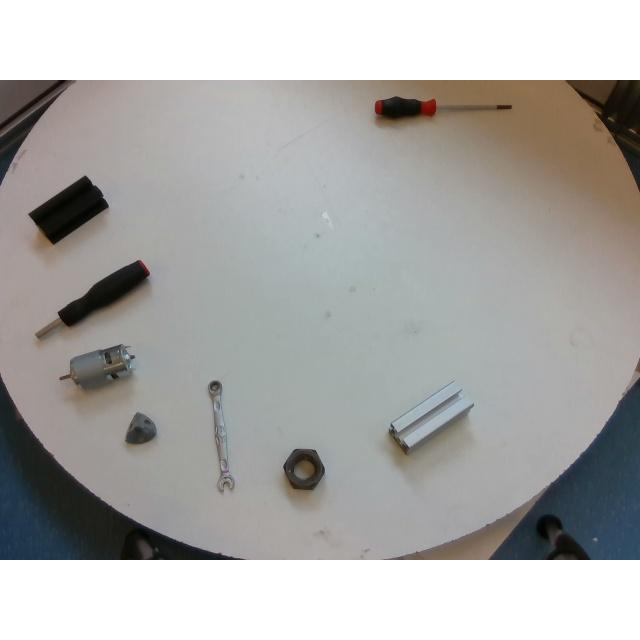M30: (284, 448, 324, 488)
Motor2: (58, 344, 134, 388)
S40_40_B: (28, 176, 108, 244)
S40_40_G: (389, 381, 473, 453)
Wrench: (208, 381, 236, 492)
